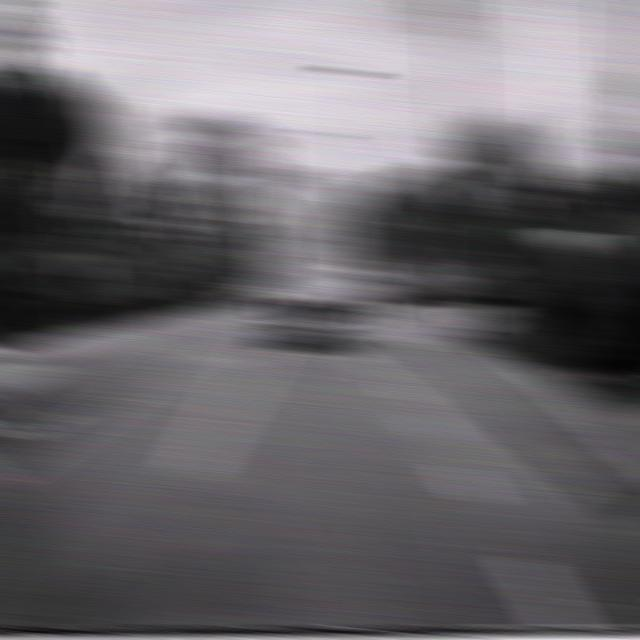stop_sign: (435, 157, 483, 207)
